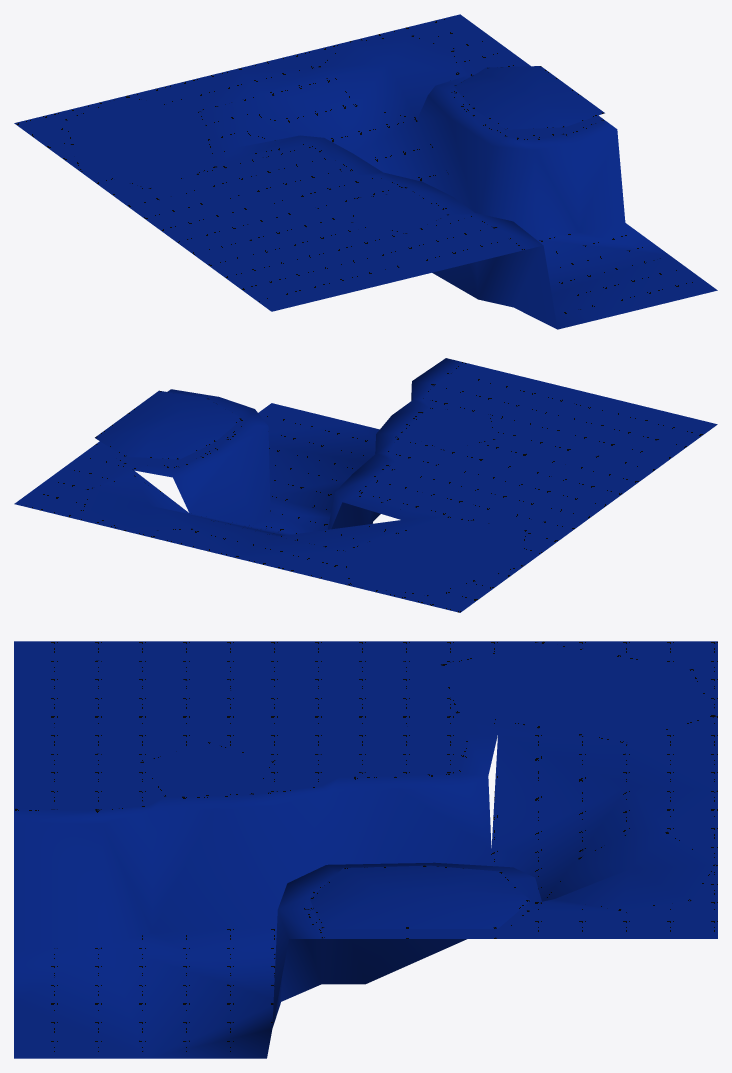
Rendered from GRD_S_C4_S_1.fbx.
3 views of the same model, one above another, from view 1: azimuth 30°, elevation 25°; view 2: azimuth 150°, elevation 25°; view 3: azimuth 270°, elevation 25° (orthographic). The views are drawn at different scales.
Parts seen in each view (by area): view 1: material_00022000, material_00042000, material_C0032000, material_C0012000, material_C0052000; view 2: material_00022000, material_C0032000, material_00042000, material_C0012000, material_C0052000; view 3: material_00022000, material_00042000, material_C0032000, material_C0012000, material_C0052000.
Boxes of the visible parts, x1,y1,x2,y2 form: material_00022000: [14, 14, 717, 329]; material_00042000: [234, 75, 625, 329]; material_C0032000: [63, 35, 460, 233]; material_C0012000: [454, 66, 604, 129]; material_C0052000: [453, 91, 604, 136]; material_00022000: [14, 363, 717, 612]; material_C0032000: [80, 407, 526, 596]; material_00042000: [134, 358, 466, 529]; material_C0012000: [95, 390, 242, 459]; material_C0052000: [95, 423, 241, 466]; material_00022000: [14, 641, 717, 1058]; material_00042000: [14, 734, 541, 1028]; material_C0032000: [139, 641, 717, 911]; material_C0012000: [310, 865, 530, 928]; material_C0052000: [310, 906, 530, 938].
Size of the model in its own units: 12800 by 2800 by 12800.
